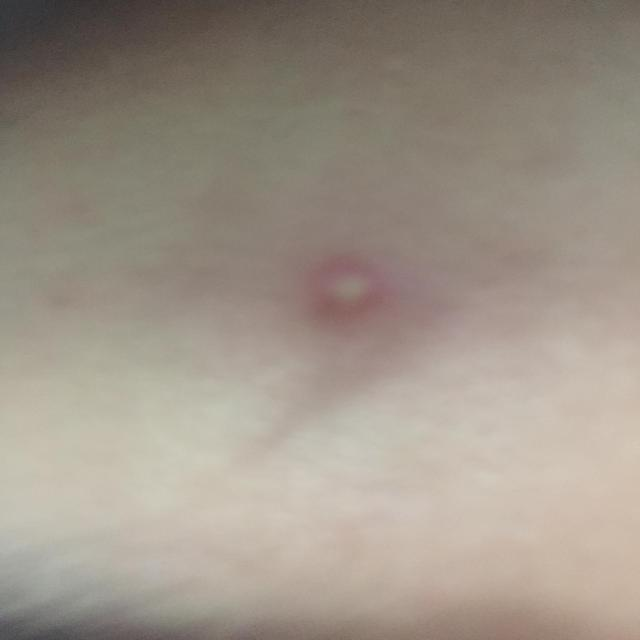blackheads: (300, 244, 424, 333)
